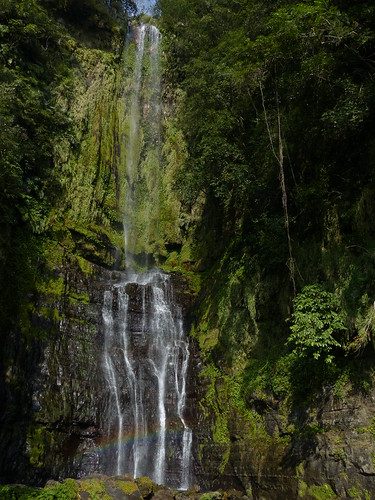wufengciWaterfall: (51, 14, 253, 486)
